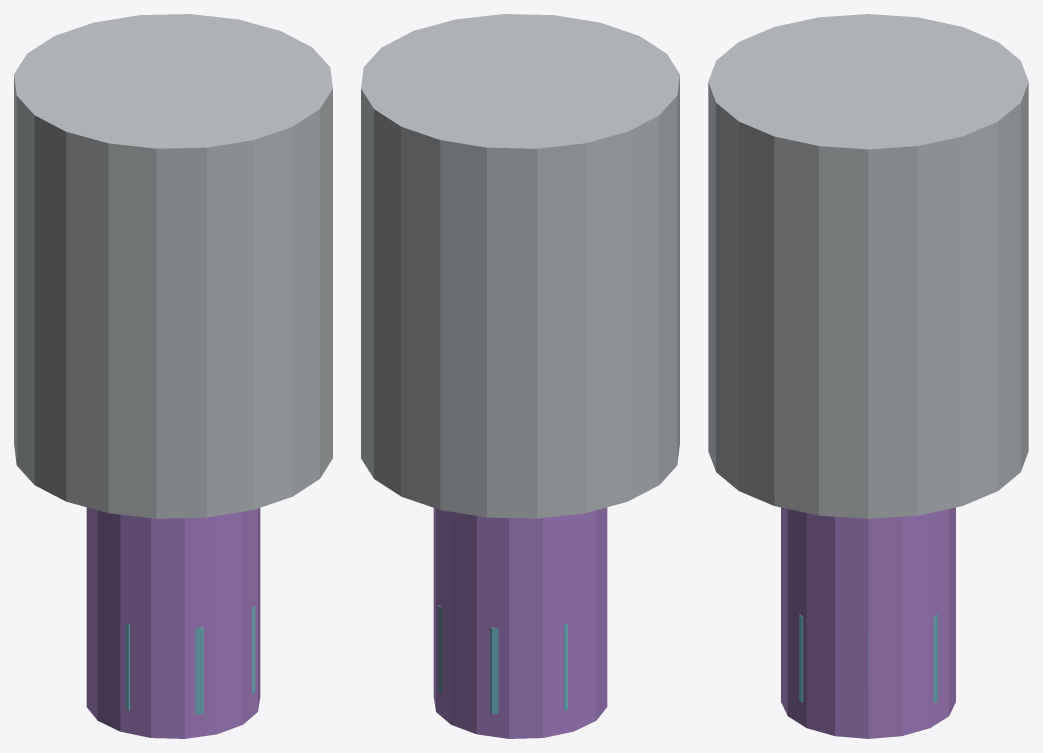
Rendered from 37_L77_BarrierFluidDispenseNozzle.glb.
3 renders of one model, left to right at view 1: azimuth 30°, elevation 25°; view 2: azimuth 150°, elevation 25°; view 3: azimuth 270°, elevation 25°, orthographic.
Parts seen in each view (by area): view 1: BarrierFluidDispenseNozzle_Node_0000, BarrierFluidDispenseNozzle_Node_0001, BarrierFluidDispenseNozzle_Node_0004; view 2: BarrierFluidDispenseNozzle_Node_0000, BarrierFluidDispenseNozzle_Node_0001, BarrierFluidDispenseNozzle_Node_0007; view 3: BarrierFluidDispenseNozzle_Node_0000, BarrierFluidDispenseNozzle_Node_0001.
Part boxes in pixels (x1=…): BarrierFluidDispenseNozzle_Node_0000: x1=14, y1=14, x2=332, y2=518; BarrierFluidDispenseNozzle_Node_0001: x1=86, y1=507, x2=260, y2=738; BarrierFluidDispenseNozzle_Node_0004: x1=195, y1=627, x2=203, y2=714; BarrierFluidDispenseNozzle_Node_0000: x1=361, y1=14, x2=679, y2=518; BarrierFluidDispenseNozzle_Node_0001: x1=433, y1=507, x2=607, y2=738; BarrierFluidDispenseNozzle_Node_0007: x1=490, y1=627, x2=498, y2=714; BarrierFluidDispenseNozzle_Node_0000: x1=708, y1=14, x2=1028, y2=518; BarrierFluidDispenseNozzle_Node_0001: x1=781, y1=507, x2=955, y2=738.
Bounding box in the file's own units: 0.22 × 0.47 × 0.22.
